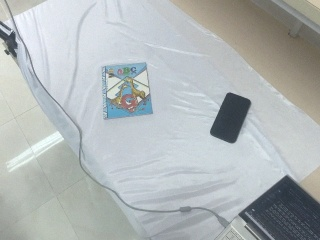book: (99, 60, 154, 120)
phone: (210, 92, 252, 144)
